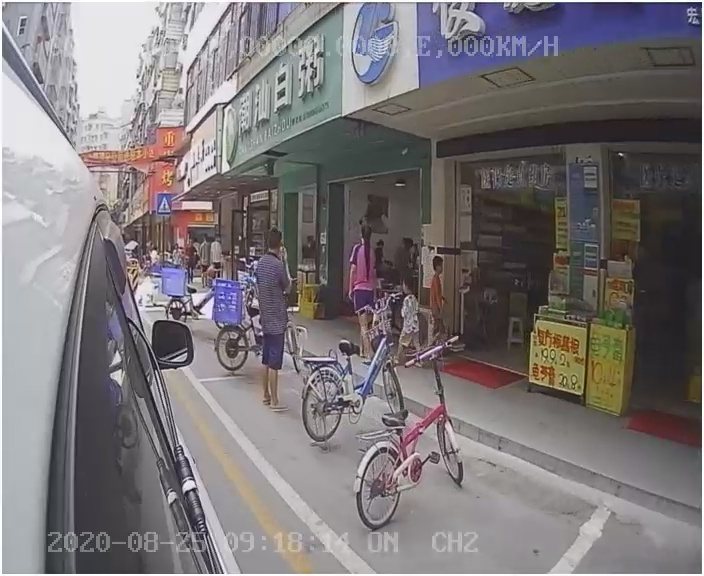person: (243, 228, 300, 423)
